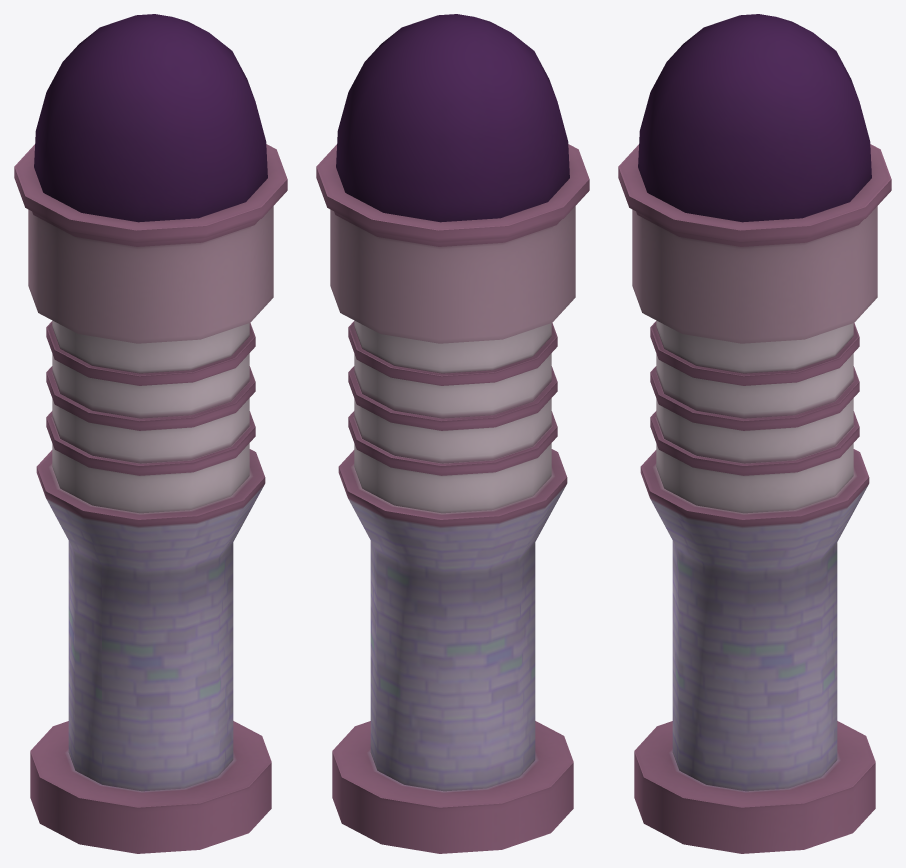
Rendered from Prefab_Stage02_None.fbx.
The picture shows the model from 3 angles, left to right: view 1: azimuth 30°, elevation 25°; view 2: azimuth 150°, elevation 25°; view 3: azimuth 270°, elevation 25°; orthographic projection.
Visible parts, largest first — view 1: Stage02_None_004; view 2: Stage02_None_004; view 3: Stage02_None_004.
Part boxes in pixels (left/top/right/bottom): Stage02_None_004: left=14, top=14, right=287, bottom=853; Stage02_None_004: left=316, top=14, right=589, bottom=853; Stage02_None_004: left=618, top=14, right=891, bottom=853.
Size of the model in its own units: 266 by 838 by 266.
